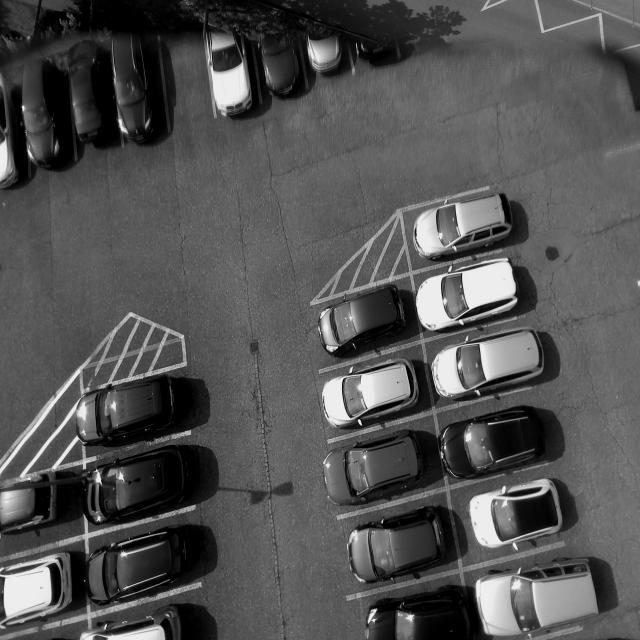car: (476, 555, 601, 640), (347, 501, 450, 594), (432, 325, 548, 407), (82, 448, 190, 532), (75, 374, 186, 453), (323, 426, 426, 510), (438, 407, 549, 483), (470, 470, 562, 560), (416, 258, 521, 335), (412, 193, 518, 263), (89, 533, 191, 605), (322, 359, 421, 429), (316, 286, 410, 358), (111, 32, 158, 149), (21, 61, 66, 179), (70, 38, 108, 156)
